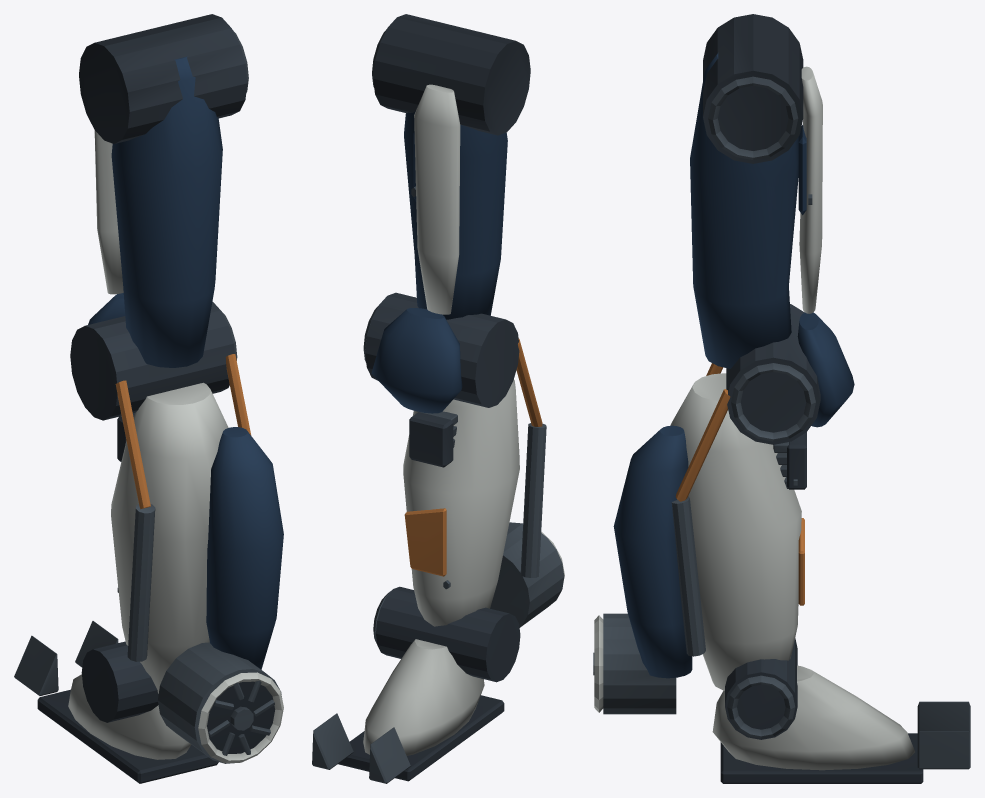
The model's file is right_leg.glb.
3 renders of one model, left to right at view 1: azimuth 30°, elevation 25°; view 2: azimuth 150°, elevation 25°; view 3: azimuth 270°, elevation 25°, orthographic. The views are drawn at different scales.
Parts seen in each view (by area): view 1: R_Thigh_shell, R_Calf_nacelle, R_Nacelle_cowling, R_Leg_axle, R_Leg_axle.001, R_Heel_fan_shroud, R_Leg_axle.002, R_Instep, R_Sole, R_Calf_ram, R_White_thigh_inlay, R_Fan_dark_interior (+6 smaller); view 2: R_Calf_nacelle, R_Leg_axle, R_Thigh_shell, R_White_thigh_inlay, R_Instep, R_Leg_axle.002, R_Knee_guard, R_Leg_axle.001, R_Heel_fan_shroud, R_Calf_ram, R_Sole, R_Calf_orange (+4 smaller); view 3: R_Calf_nacelle, R_Thigh_shell, R_Nacelle_cowling, R_Instep, R_Leg_axle, R_Leg_axle.001, R_Heel_fan_shroud, R_White_thigh_inlay, R_Sole, R_Leg_axle.002, R_Knee_guard, R_Calf_ram.001 (+9 smaller).
Boxes of the visible parts, left/top/right/bottom form: R_Thigh_shell: left=111, top=56, right=222, bottom=367; R_Calf_nacelle: left=111, top=382, right=228, bottom=693; R_Nacelle_cowling: left=206, top=427, right=283, bottom=669; R_Leg_axle: left=79, top=14, right=247, bottom=143; R_Leg_axle.001: left=70, top=301, right=234, bottom=420; R_Heel_fan_shroud: left=158, top=642, right=281, bottom=763; R_Leg_axle.002: left=81, top=641, right=158, bottom=722; R_Instep: left=68, top=674, right=191, bottom=759; R_Sole: left=37, top=689, right=218, bottom=783; R_Calf_ram: left=127, top=504, right=155, bottom=661; R_White_thigh_inlay: left=94, top=130, right=123, bottom=294; R_Fan_dark_interior: left=207, top=681, right=275, bottom=753; R_Calf_nacelle: left=403, top=379, right=519, bottom=626; R_Leg_axle: left=373, top=14, right=530, bottom=135; R_Thigh_shell: left=404, top=111, right=507, bottom=319; R_White_thigh_inlay: left=414, top=84, right=460, bottom=314; R_Instep: left=363, top=639, right=484, bottom=755; R_Leg_axle.002: left=376, top=586, right=520, bottom=682; R_Knee_guard: left=371, top=308, right=462, bottom=413; R_Leg_axle.001: left=365, top=292, right=519, bottom=407; R_Heel_fan_shroud: left=490, top=522, right=564, bottom=627; R_Calf_ram: left=520, top=423, right=546, bottom=577; R_Sole: left=338, top=695, right=504, bottom=781; R_Calf_orange: left=404, top=508, right=446, bottom=576; R_Calf_nacelle: left=670, top=373, right=801, bottom=690; R_Thigh_shell: left=690, top=52, right=798, bottom=368; R_Nacelle_cowling: left=613, top=425, right=692, bottom=678; R_Instep: left=712, top=665, right=914, bottom=770; R_Leg_axle: left=703, top=14, right=803, bottom=163; R_Leg_axle.001: left=726, top=304, right=820, bottom=444; R_Heel_fan_shroud: left=603, top=613, right=676, bottom=714; R_White_thigh_inlay: left=799, top=66, right=822, bottom=313; R_Sole: left=720, top=733, right=923, bottom=783; R_Leg_axle.002: left=725, top=638, right=797, bottom=739; R_Knee_guard: left=797, top=312, right=854, bottom=427; R_Calf_ram.001: left=671, top=496, right=705, bottom=656.
Size of the model in its own units: 0.1588 by 0.8658 by 0.4092.
